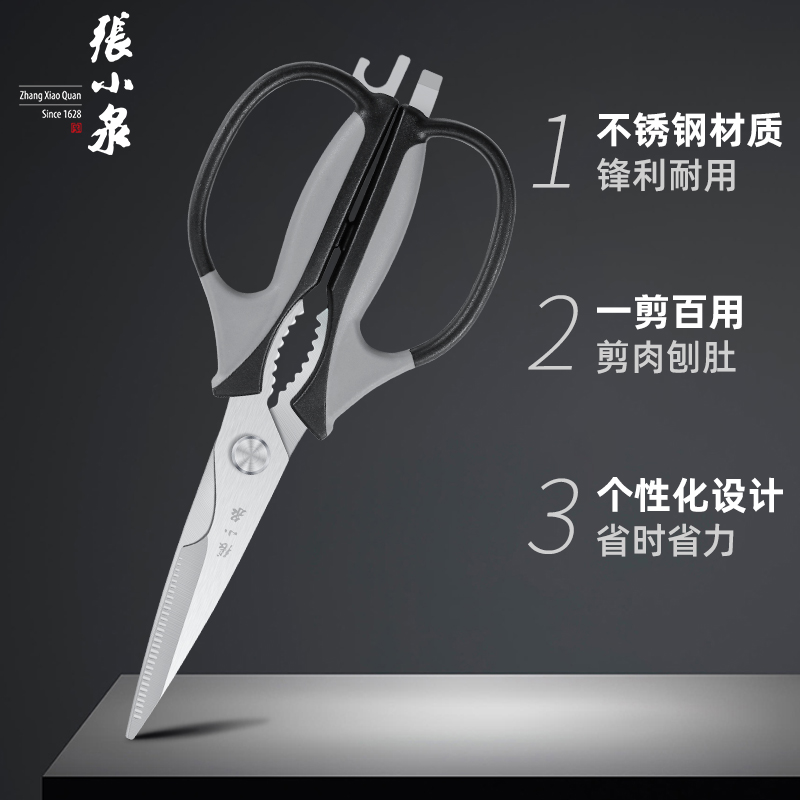scissors: (121, 40, 525, 746)
